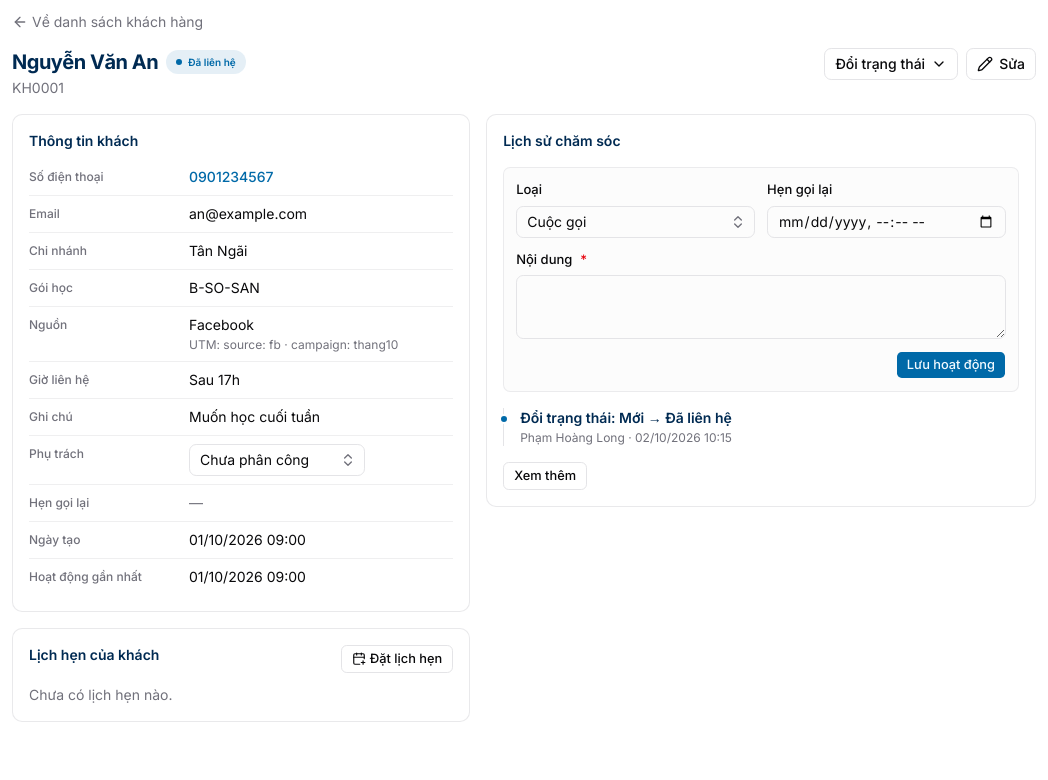
Scenario: LeadDetail › lịch sử: nhãn đổi trạng thái, tên người làm, Xem thêm tải trang 2
Expected: the text "Đổi trạng thái: Mới → Đã liên hệ" is shown, [520,409,732,426]
Expected: the text "Phạm Hoàng Long · 02/10/2026 10:15" is shown, [520,430,732,445]
Click the button "Xem thêm" at (545, 476), box [503,462,587,490]
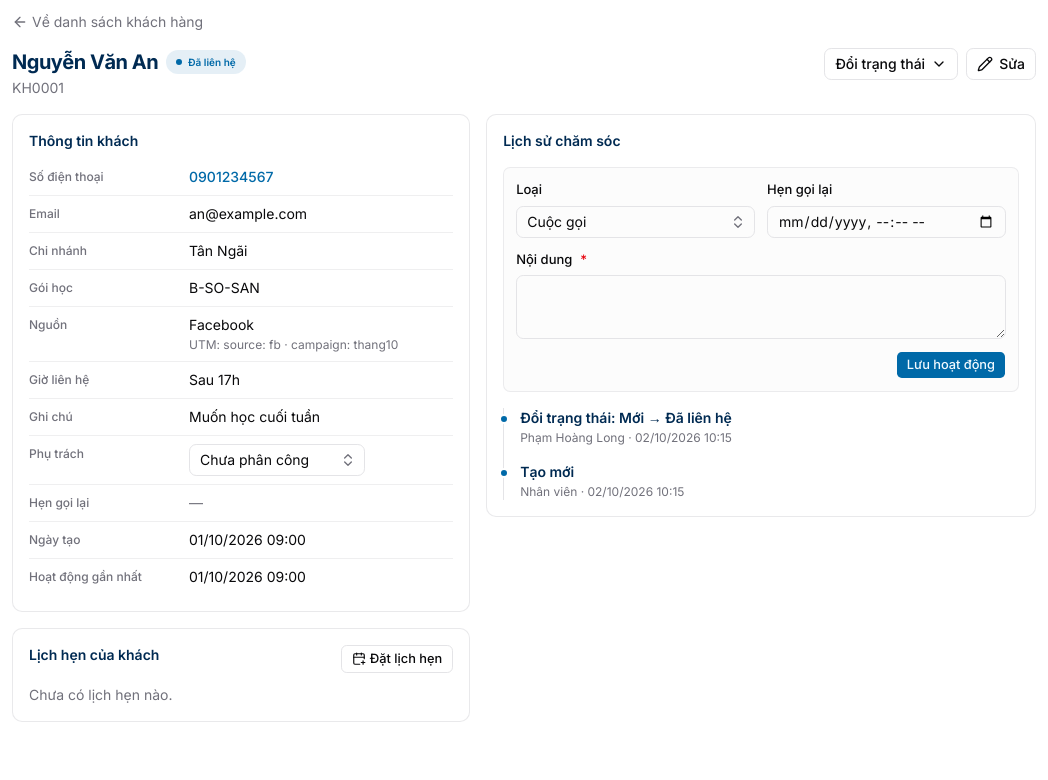
Result: the text "Tạo mới" is shown at [520,463,574,480]
Result: the text "Nhân viên · 02/10/2026 10:15" is shown at [520,484,684,499]
Result: the button "Xem thêm" is gone
